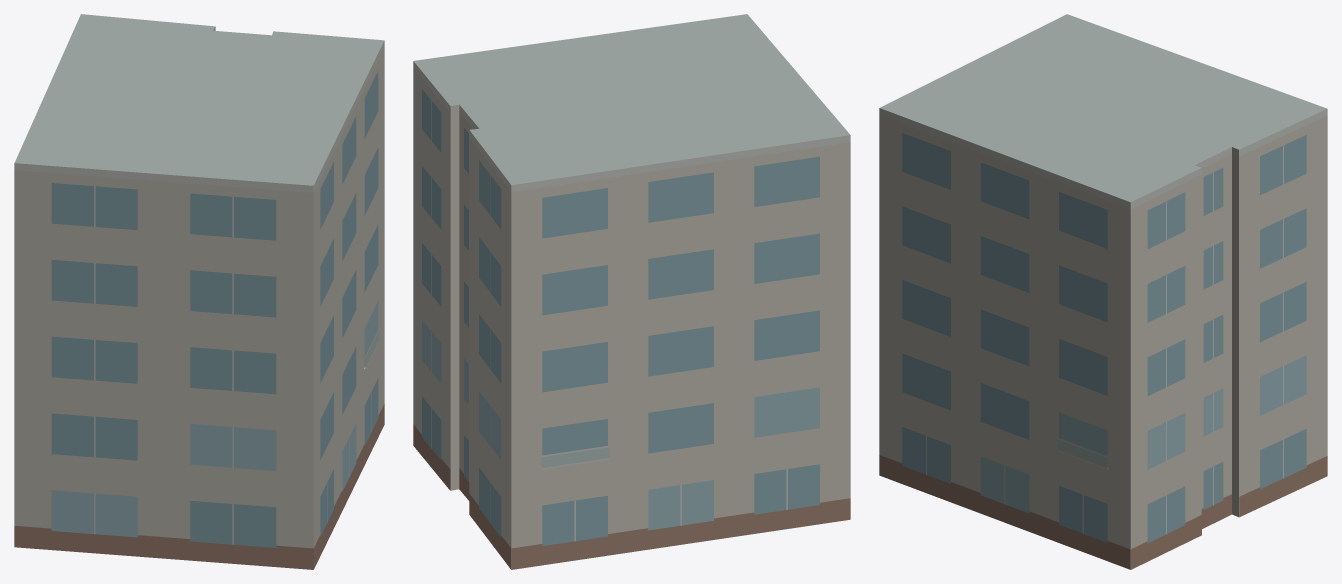
The model's file is survey-upis-32854232.glb.
3 views of the same model, side by side, from view 1: azimuth 30°, elevation 25°; view 2: azimuth 150°, elevation 25°; view 3: azimuth 270°, elevation 25° (orthographic). The views are drawn at different scales.
Parts seen in each view (by area): view 1: survey-upis-32854232.tmp; view 2: survey-upis-32854232.tmp; view 3: survey-upis-32854232.tmp.
Boxes of the visible parts, x1=… form: survey-upis-32854232.tmp: x1=14, y1=14, x2=384, y2=569; survey-upis-32854232.tmp: x1=413, y1=14, x2=850, y2=569; survey-upis-32854232.tmp: x1=879, y1=14, x2=1327, y2=569.
Size of the model in its own units: 14.52 by 13.2 by 14.59.
